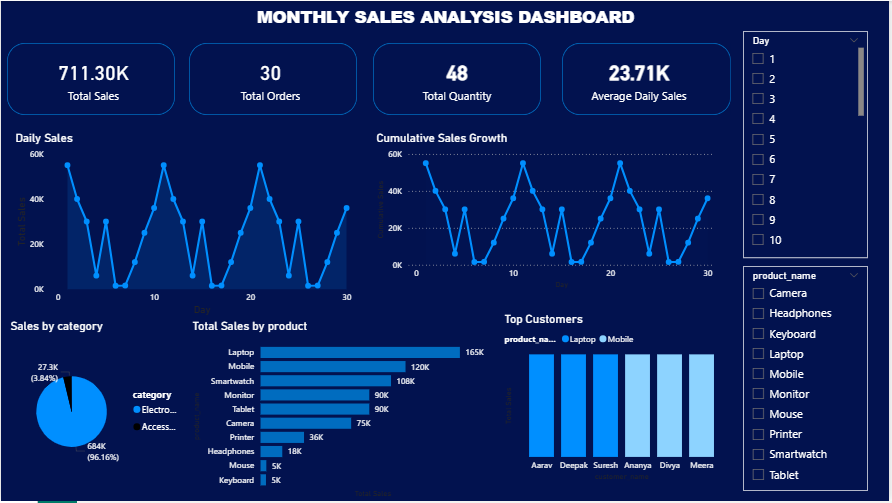

What the dashboard file says about the page in this screenshot:
{"tool":"powerbi","page":{"name":"Page 1","canvas":[1280,720],"ordinal":0},"visuals":[{"type":"textbox","box":[0,0,1280.2,43.2],"z":0},{"type":"card","fields":{"Values":["sales orders.Total Sales"]},"box":[135.4,187.2,169.9,79.2],"z":1000},{"type":"shape","box":[535.7,60.5,241.9,103.7],"z":2000},{"type":"shape","box":[807.8,60.5,243.4,103.7],"z":3000},{"type":"card","fields":{"Values":["sales orders.Total Orders"]},"box":[337,175.7,169.9,79.2],"z":4000},{"type":"card","fields":{"Values":["sales orders.Total Quantity"]},"box":[571.7,72,169.9,79.2],"z":5000},{"type":"card","fields":{"Values":["sales orders.Average Daily Sales"]},"box":[833.8,72,169.9,79.2],"z":6000},{"type":"lineChart","title":"Daily Sales","fields":{"Category":["sales orders.order_date.Variation.Date Hierarchy.Day"],"Y":["sales orders.Total Sales"]},"box":[15.8,187.2,496.8,270.7],"z":7000},{"type":"lineChart","title":"Cumulative Sales Growth","fields":{"Category":["sales orders.order_date.Variation.Date Hierarchy.Day"],"Y":["sales orders.Cumulative Sales"]},"box":[535.7,187.2,496.8,231.8],"z":8000},{"type":"barChart","title":"Total Sales by product","fields":{"Category":["sales products.product_name"],"Y":["sales orders.Total Sales"]},"box":[270.7,457.9,432,262.1],"z":9000},{"type":"hundredPercentStackedColumnChart","title":"Top Customers","fields":{"Y":["sales orders.Total Sales"],"Category":["sales customers.customer_name"],"Series":["sales products.product_name"]},"box":[720,447.8,331.2,247.7],"z":10000},{"type":"slicer","fields":{"Values":["sales products.product_name"]},"box":[1068.5,381.6,180,324],"z":11000},{"type":"slicer","fields":{"Values":["sales orders.order_date.Variation.Date Hierarchy.Day"]},"box":[1068.5,43.2,180,326.9],"z":12000},{"type":"shape","box":[8.6,60.5,241.9,103.7],"z":13000},{"type":"shape","box":[270.7,60.5,241.9,103.7],"z":14000},{"type":"card","fields":{"Values":["sales orders.Total Sales"]},"box":[36,72,194.4,79.2],"z":15000},{"type":"card","fields":{"Values":["sales orders.Total Orders"]},"box":[290.9,72,194.4,79.2],"z":16000},{"type":"pieChart","title":"Sales by category","fields":{"Category":["sales products.category"],"Y":["Sum(sales orders.sales)"]},"box":[15.8,457.9,249.1,247.7],"z":17000}]}

Visuals, with their boxes in screenshot pixels (x1, y1, x2, y2), scaled from the page's 1280x720 canvas onto the 892x503 screenshot:
textbox: locate(0, 0, 891, 30)
card - sales orders.Total Sales: locate(94, 131, 213, 186)
shape: locate(373, 42, 542, 115)
shape: locate(563, 42, 733, 115)
card - sales orders.Total Orders: locate(235, 123, 353, 178)
card - sales orders.Total Quantity: locate(398, 50, 517, 106)
card - sales orders.Average Daily Sales: locate(581, 50, 699, 106)
"Daily Sales" lineChart: locate(11, 131, 357, 320)
"Cumulative Sales Growth" lineChart: locate(373, 131, 720, 293)
"Total Sales by product" barChart: locate(189, 320, 490, 502)
"Top Customers" hundredPercentStackedColumnChart: locate(502, 313, 733, 486)
slicer - sales products.product_name: locate(745, 267, 870, 493)
slicer - sales orders.order_date.Variation.Date Hierarchy.Day: locate(745, 30, 870, 259)
shape: locate(6, 42, 175, 115)
shape: locate(189, 42, 357, 115)
card - sales orders.Total Sales: locate(25, 50, 161, 106)
card - sales orders.Total Orders: locate(203, 50, 338, 106)
"Sales by category" pieChart: locate(11, 320, 185, 493)
